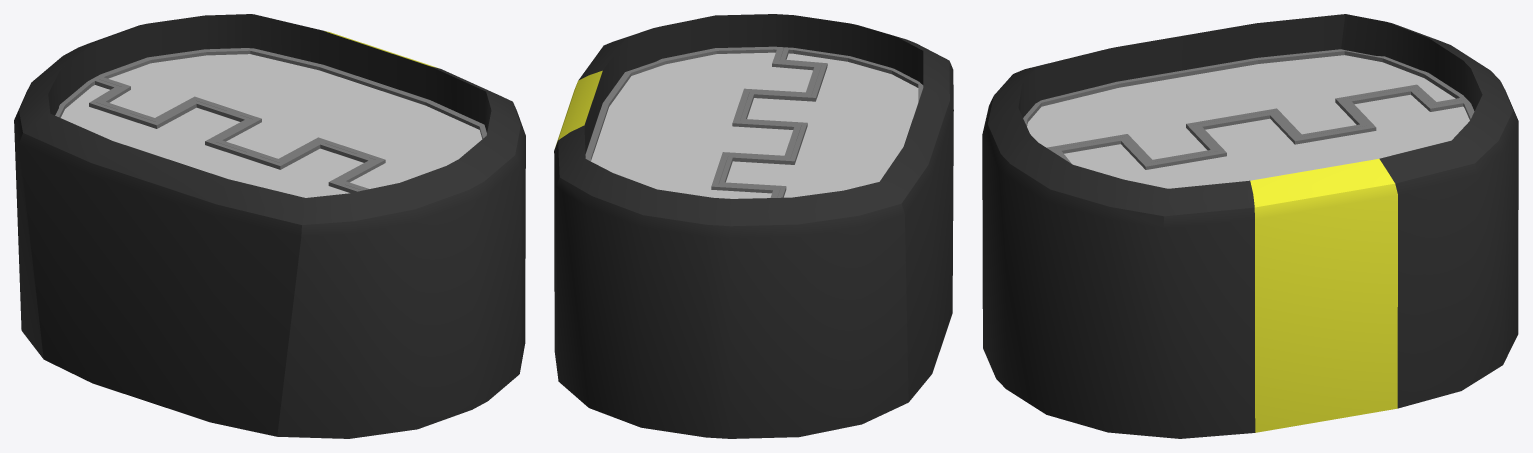
File: PumpistHideout.fbx
3 renders of one model, left to right at view 1: azimuth 30°, elevation 25°; view 2: azimuth 150°, elevation 25°; view 3: azimuth 270°, elevation 25°, orthographic. The views are drawn at different scales.
Visible parts, largest first — view 1: PumpistHideout, HideoutDoorFront, HideoutDoorBack; view 2: PumpistHideout, HideoutDoorFront, HideoutDoorBack; view 3: PumpistHideout, HideoutDoorBack, HideoutDoorFront.
Boxes of the visible parts, x1=… form: PumpistHideout: x1=14, y1=14, x2=525, y2=438; HideoutDoorFront: x1=94, y1=48, x2=486, y2=190; HideoutDoorBack: x1=55, y1=78, x2=375, y2=197; PumpistHideout: x1=554, y1=14, x2=953, y2=438; HideoutDoorFront: x1=585, y1=46, x2=821, y2=198; HideoutDoorBack: x1=719, y1=47, x2=923, y2=197; PumpistHideout: x1=982, y1=14, x2=1518, y2=438; HideoutDoorBack: x1=1023, y1=49, x2=1466, y2=162; HideoutDoorFront: x1=1053, y1=87, x2=1474, y2=188.
Size of the model in its own units: 10.56 by 11.77 by 5.81.
